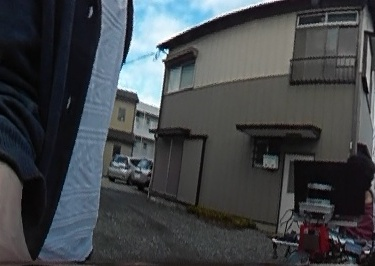person: (331, 155, 375, 263)
